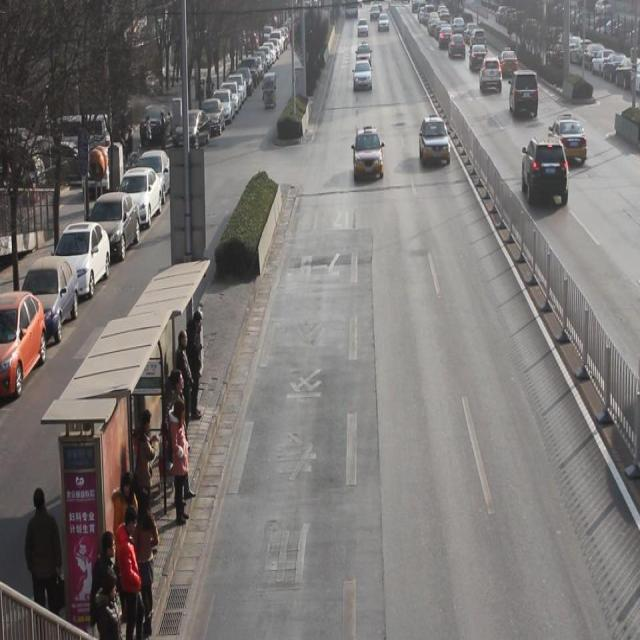car: (522, 137, 570, 207), (549, 113, 588, 166), (418, 114, 451, 168), (353, 127, 383, 184), (508, 70, 538, 117), (479, 56, 502, 93), (498, 46, 519, 77), (353, 60, 372, 94), (470, 44, 488, 73), (448, 33, 465, 62), (439, 25, 453, 48), (562, 44, 573, 71), (356, 41, 371, 60), (470, 28, 486, 44), (357, 18, 369, 38), (377, 12, 389, 32)
